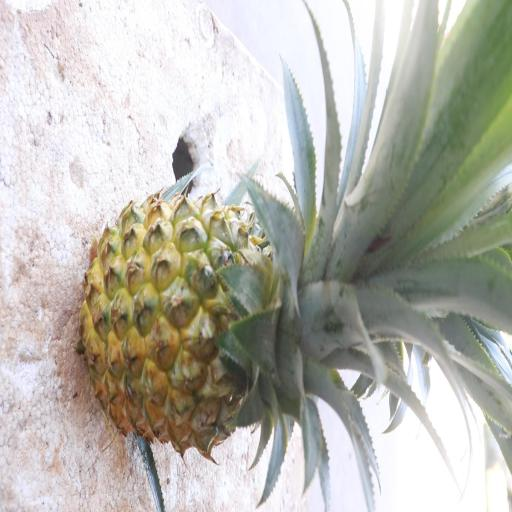Pineapple - v8 v1: (77, 184, 393, 470)
